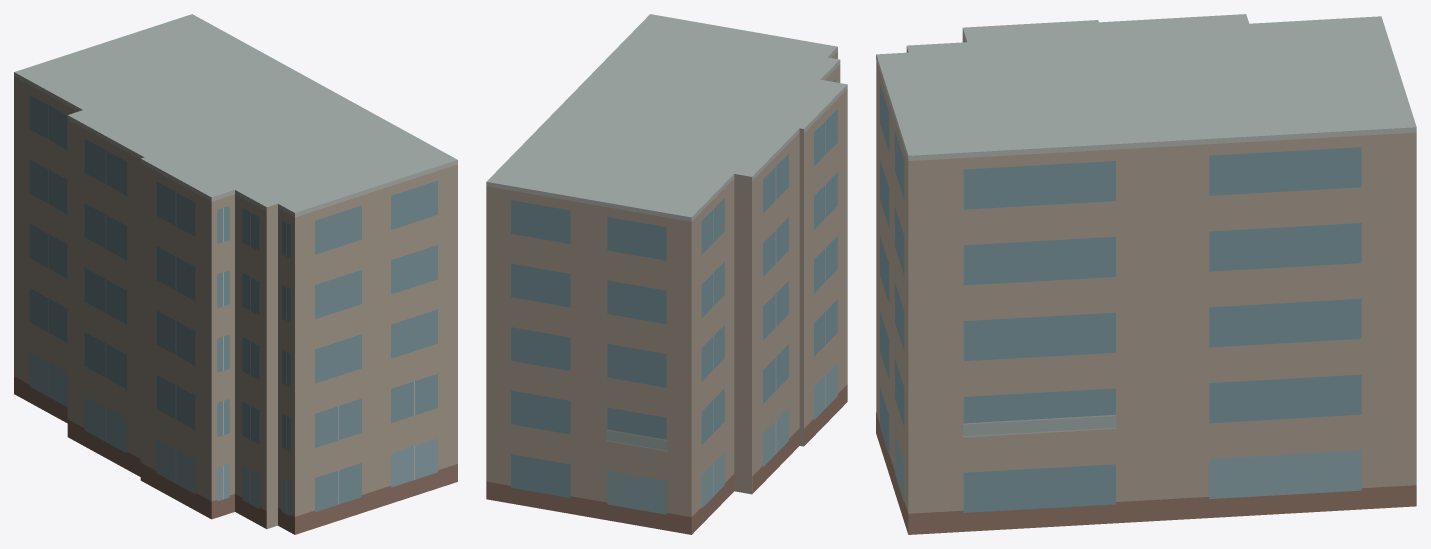
The model's file is survey-upis-32720560.glb.
The picture shows the model from 3 angles, left to right: view 1: azimuth 30°, elevation 25°; view 2: azimuth 150°, elevation 25°; view 3: azimuth 270°, elevation 25°; orthographic projection. The views are drawn at different scales.
Visible parts, largest first — view 1: survey-upis-32720560.tmp; view 2: survey-upis-32720560.tmp; view 3: survey-upis-32720560.tmp.
Boxes of the visible parts, x1,y1,x2,y2 form: survey-upis-32720560.tmp: (14,14,457,534); survey-upis-32720560.tmp: (486,14,847,534); survey-upis-32720560.tmp: (876,14,1416,534).
Size of the model in its own units: 14.04 by 17.48 by 22.6.
